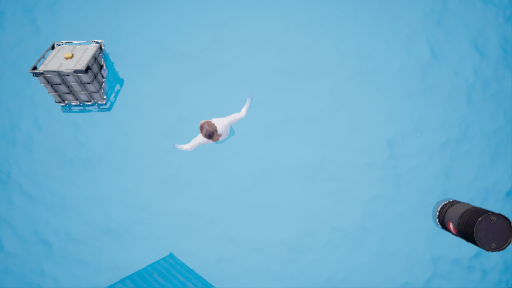person: (172, 95, 253, 155)
